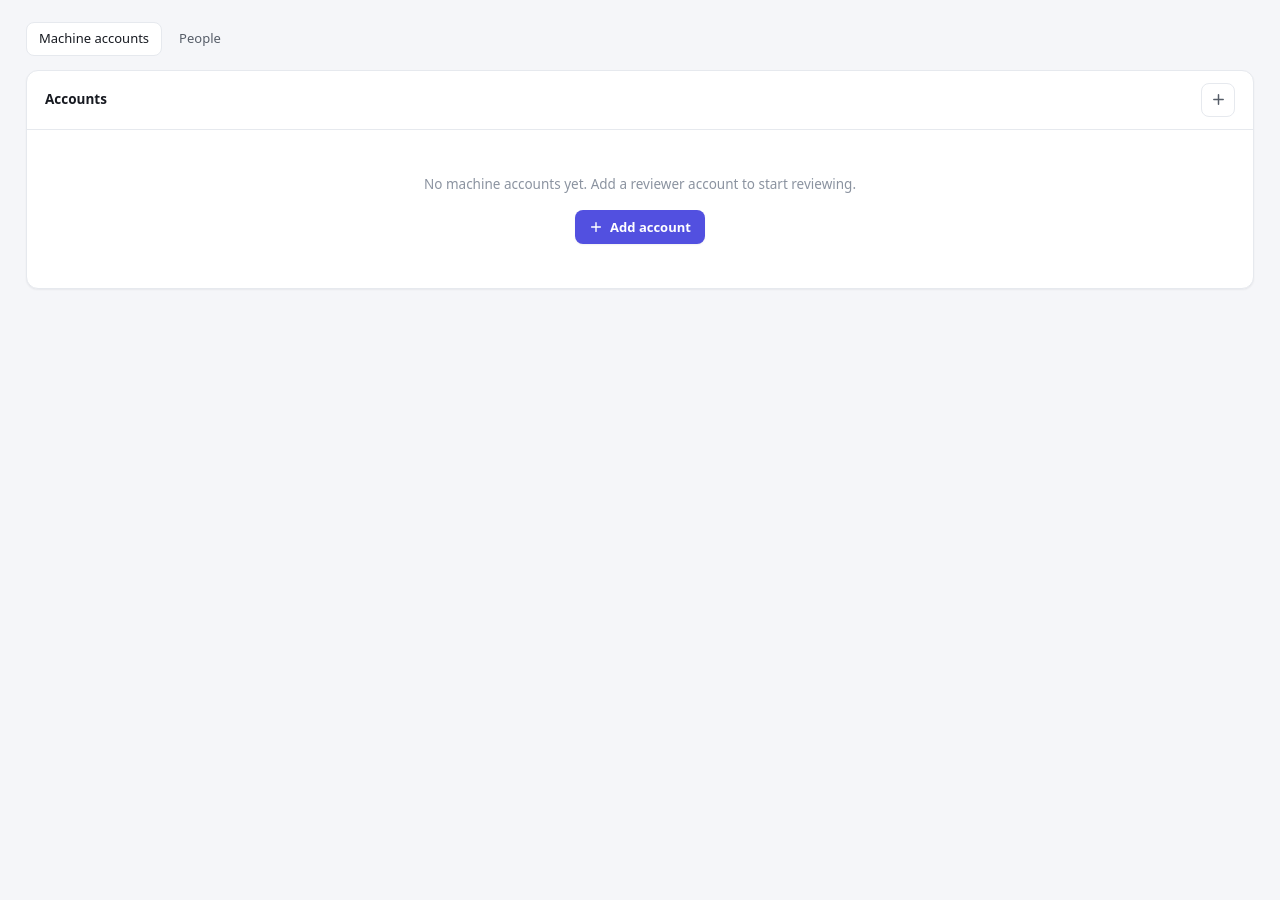
Test: SettingsProviders — provider form › swaps the base URL to the new type default when it has not been customised
The image size is (1280, 900).
What coordinates should you click on to do the following:
click the button named "add account"
I would click on:
 (1218, 100)
Its box is 1201,82 -> 1235,116.
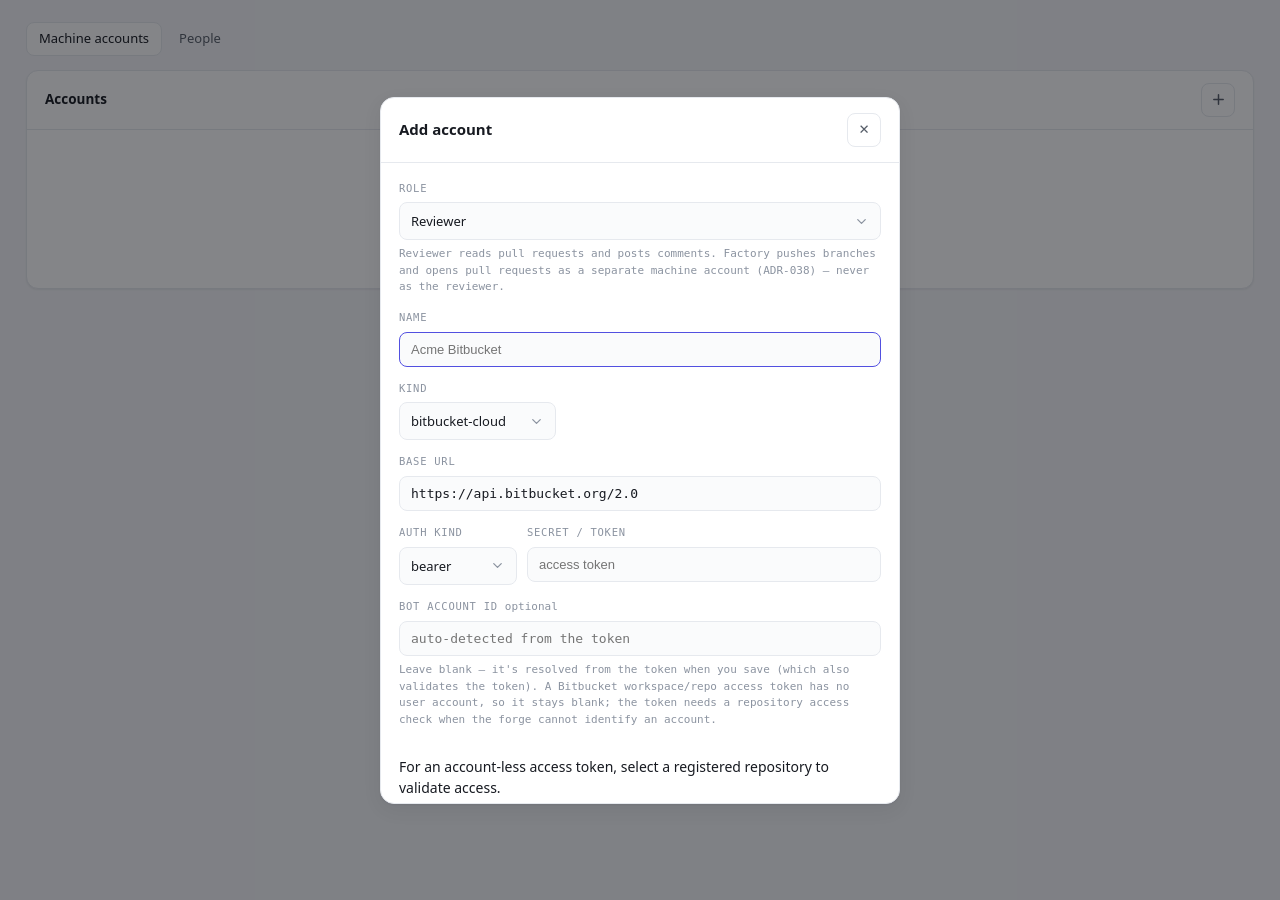
Expected: the field labelled "Base URL" holds "https://api.bitbucket.org/2.0", 399,476 -> 881,511
What coordinates should you click on to do the following:
click the dropdown named "kind"
I would click on:
 (478, 421)
Its box is 399,402 -> 556,440.
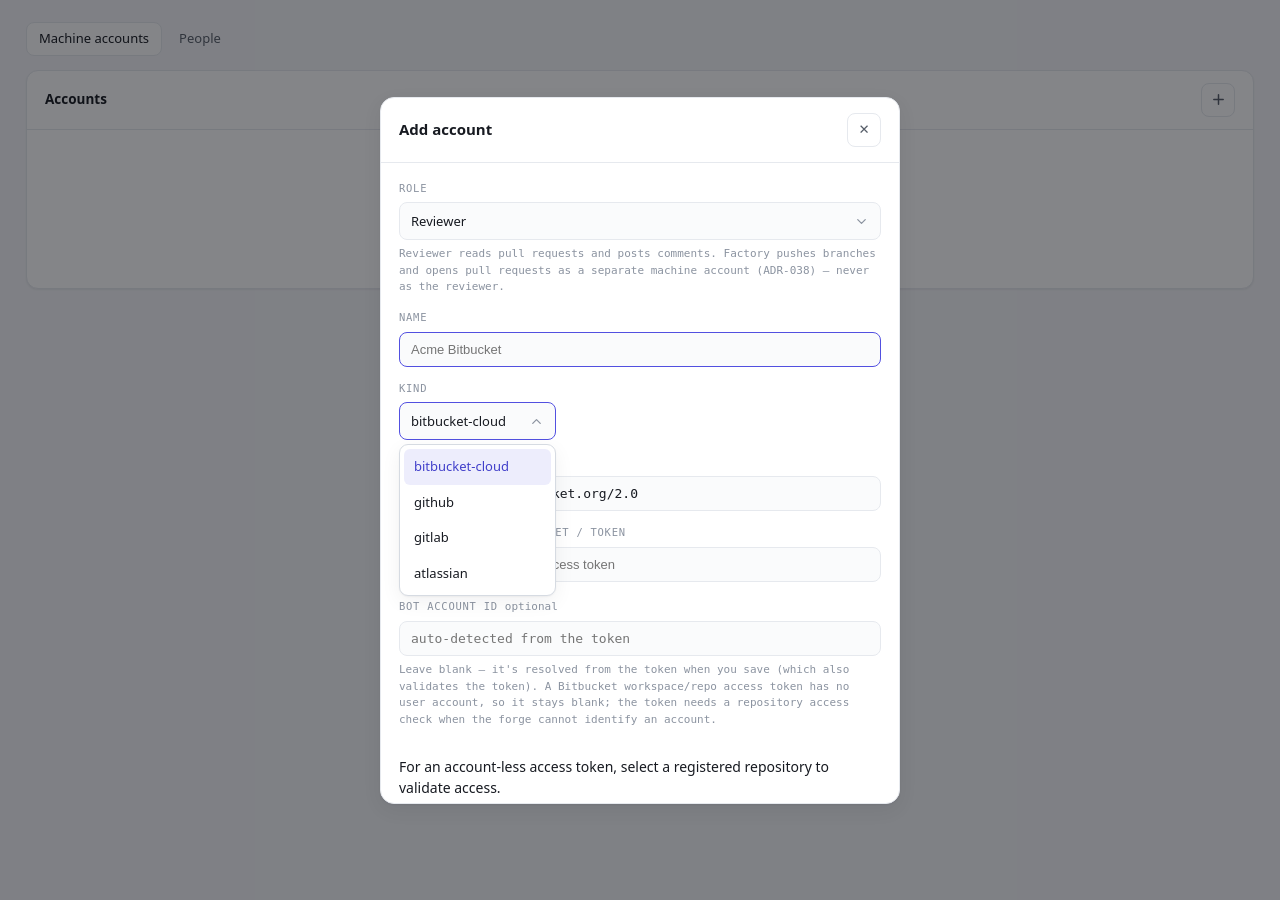
What coordinates should you click on to do the following:
click the option "github"
I would click on:
 (434, 502)
Its box is 414,493 -> 454,511.
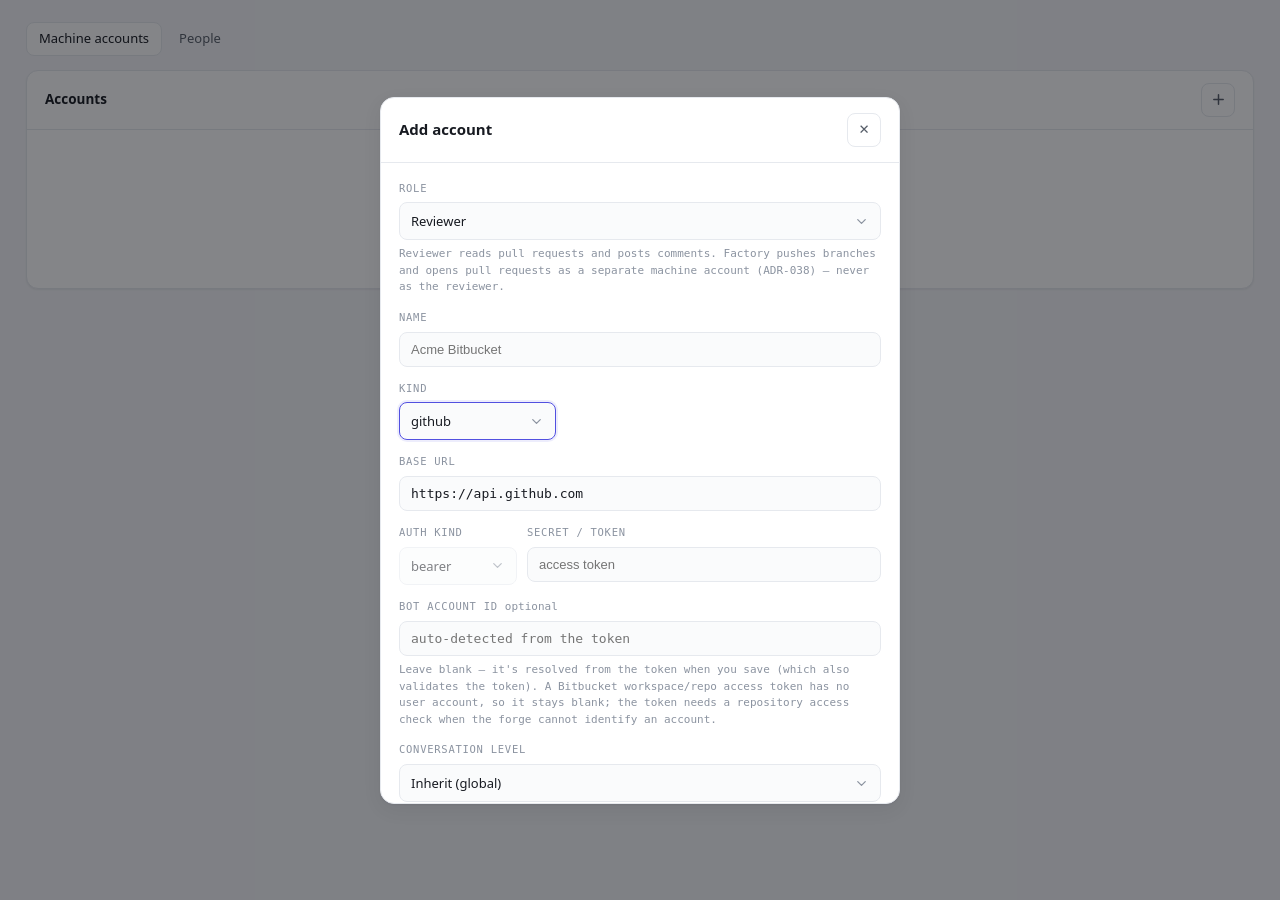
Expected: the field labelled "Base URL" holds "https://api.github.com", 399,476 -> 881,511
